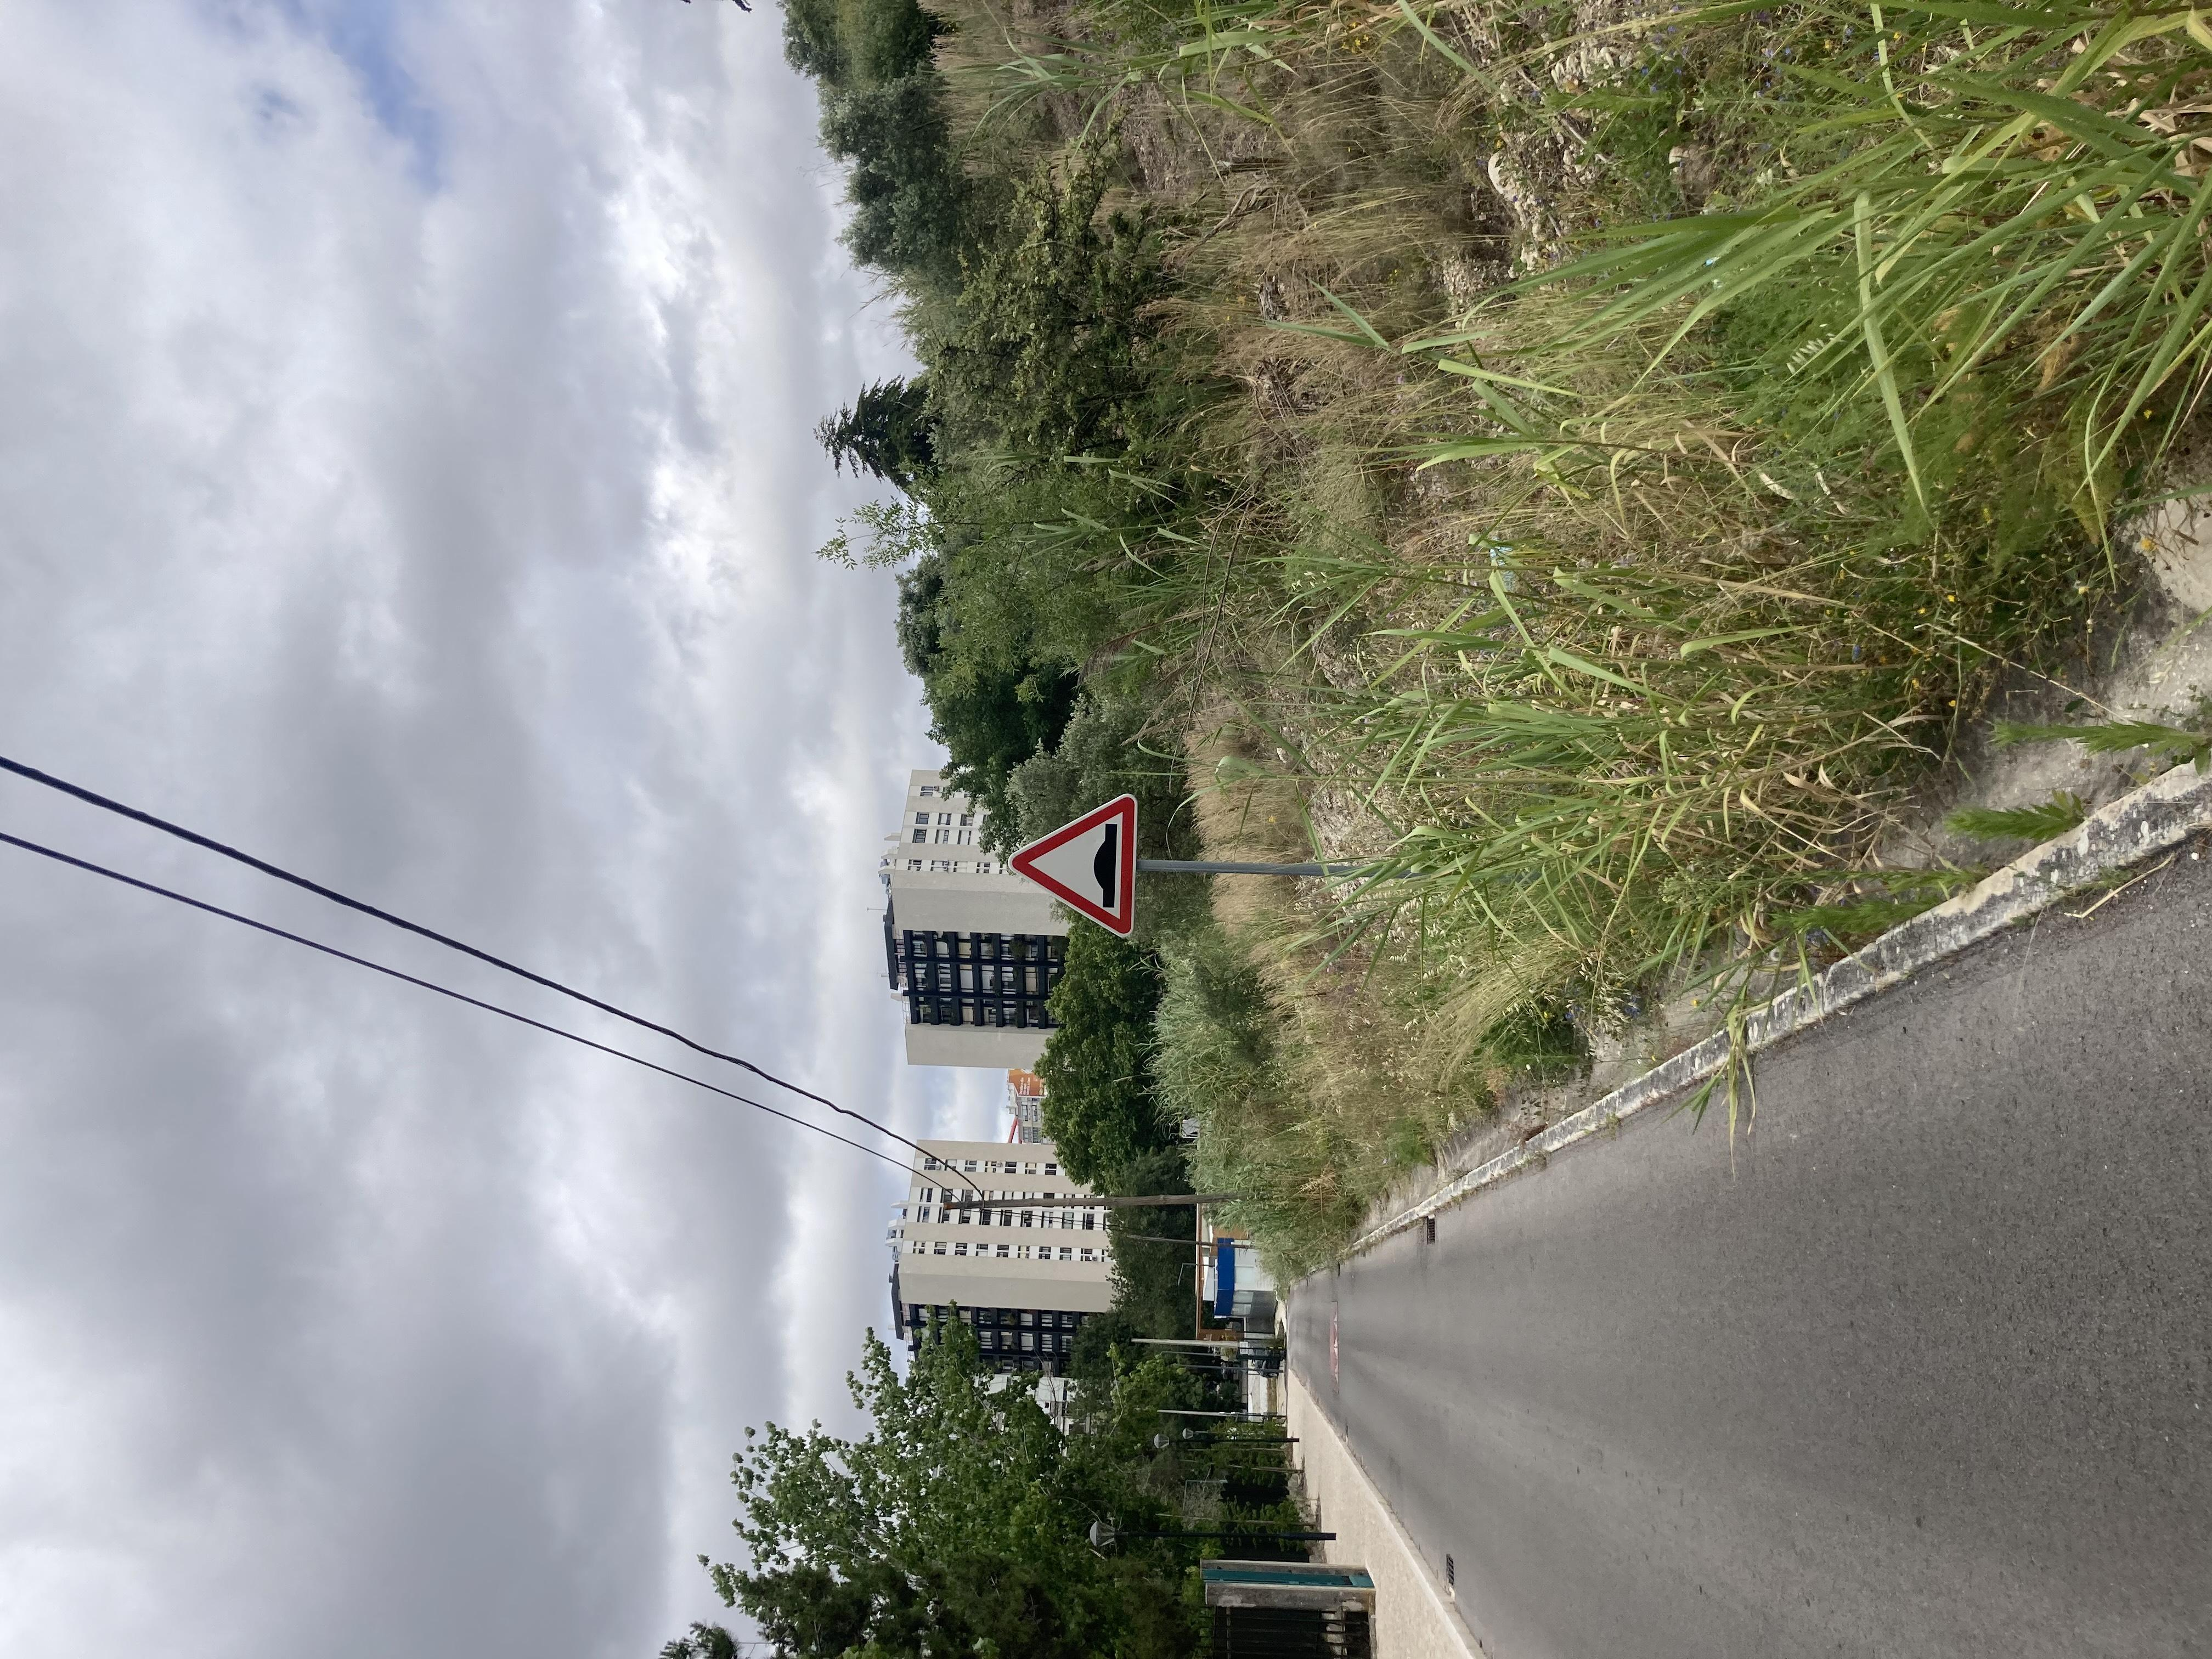lomba: (944, 732, 1177, 864)
